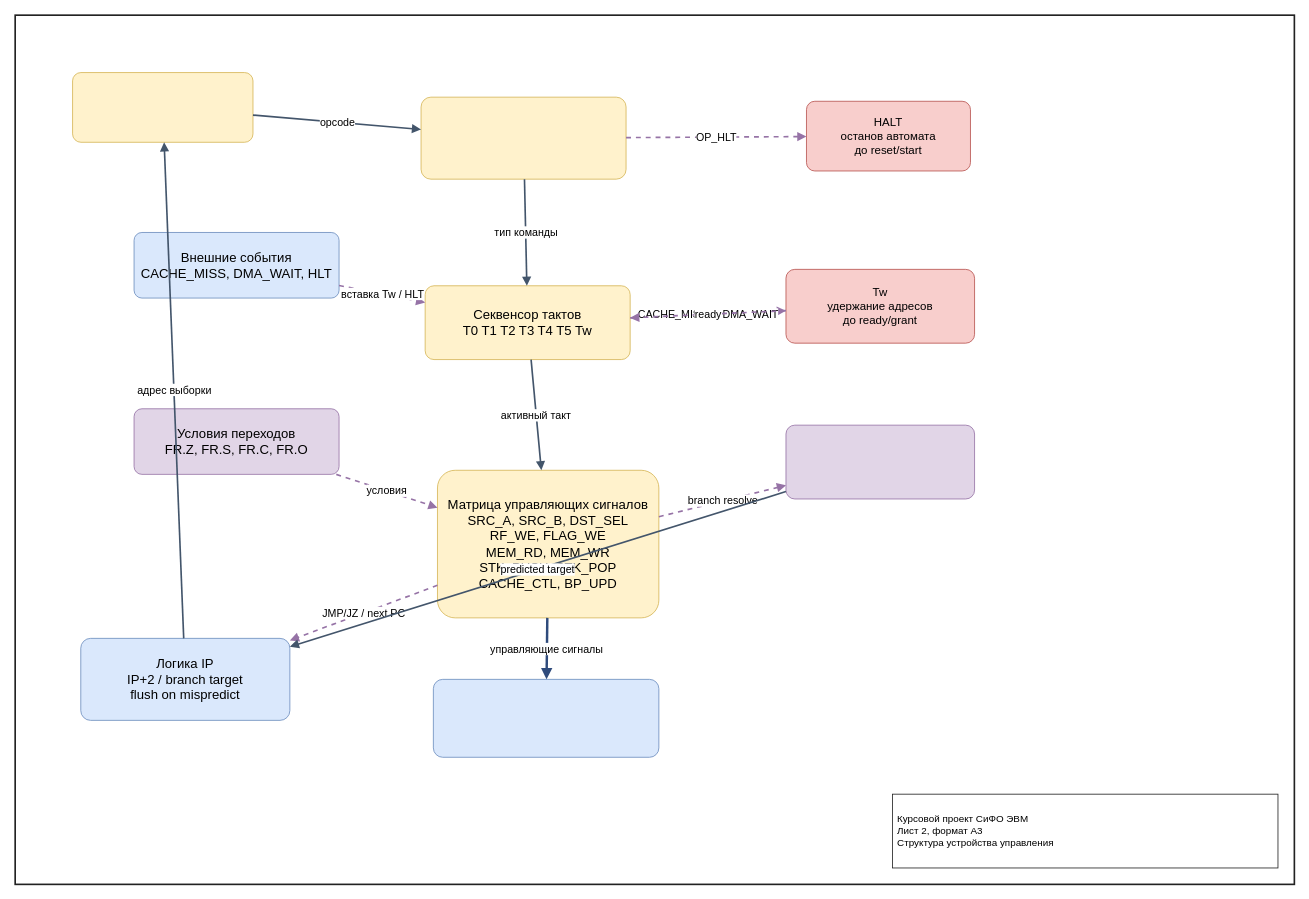
The diagram is 1309 pixels wide and 899 high, and some of its shapes have lost their labels. The centre of each missing label's shape, as x and y in pixels:
"IR0 + IR1 поля opcode / reg / adr" goes at (162,107).
"Дешифратор команды класс инструкции выбор маршрута" goes at (523,137).
"К целевым блокам РОН, АЛУ, стек, кэш, ОЗУ, предсказатель" goes at (546,718).
"Предсказатель A4 PRED_REQ / PRED_UPD" goes at (880,461).
